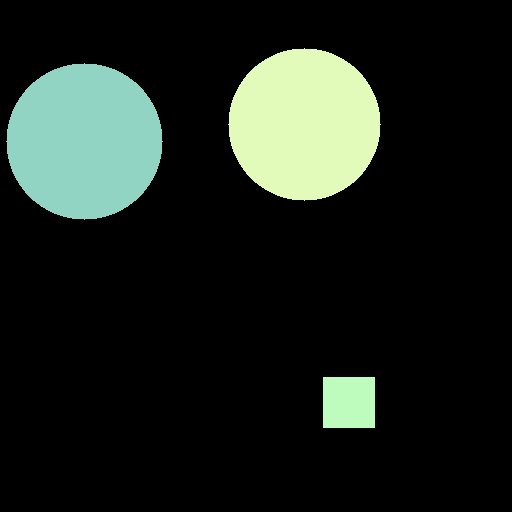circle: (6, 63, 162, 219), (228, 48, 380, 200)
square: (323, 377, 374, 427)
